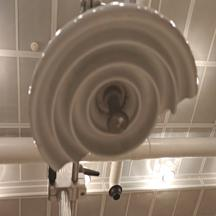insulator: (10, 0, 207, 184)
